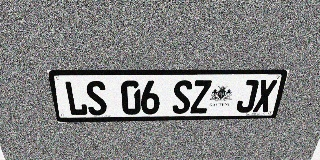0: (121, 80, 141, 115)
6: (141, 80, 160, 114)
J: (235, 80, 259, 113)
L: (63, 81, 88, 116)
S: (85, 81, 108, 115), (172, 80, 193, 114)
X: (252, 80, 278, 112)
Z: (190, 80, 212, 113)
